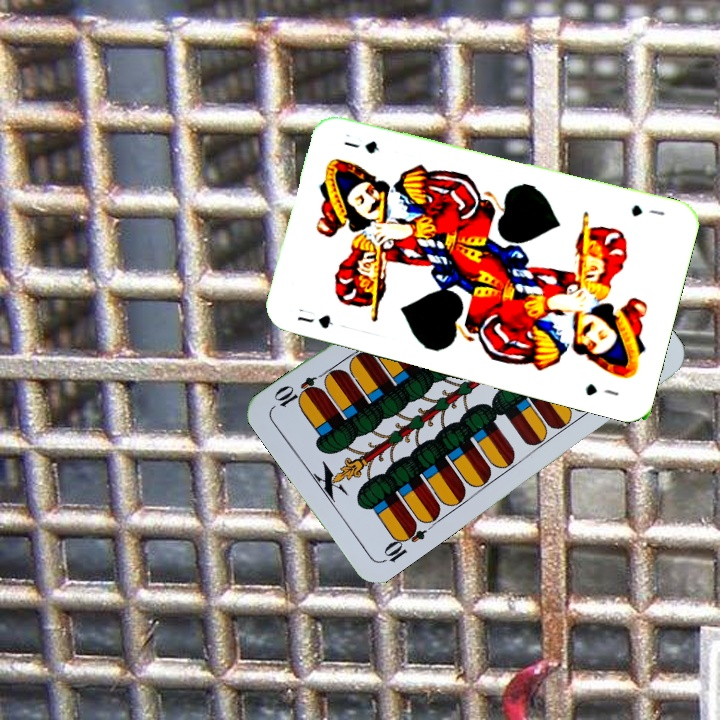E10: (377, 518, 429, 566)
GU: (293, 304, 336, 331), (627, 200, 667, 219)
